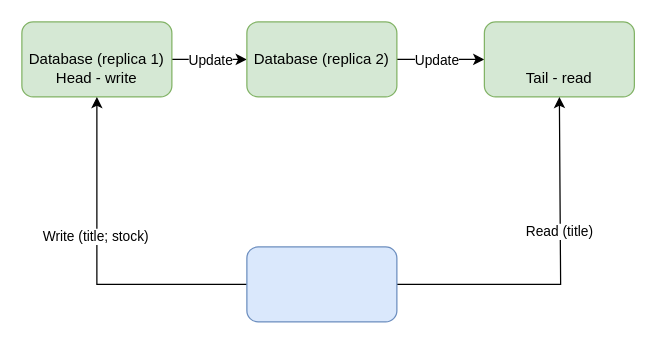
This 656x344 diagram has some shape labels left out. Here are the shapes that lost their labels. From the top down, the box of each, then its label:
(483, 21, 634, 97): Database (replica 3)
(246, 246, 397, 322): Order Executor (x3)
